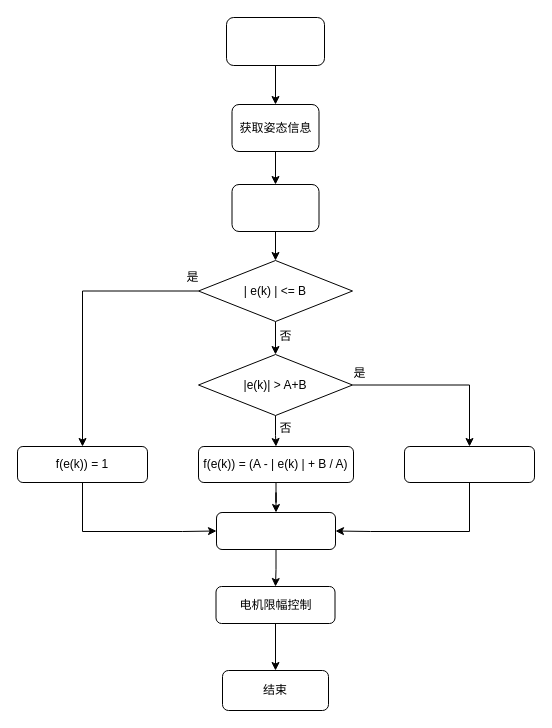
This 552x728 diagram has some shape labels left out. The centre of each missing label's shape, as x and y in pixels:
f(e(k)) = 0: (469,464)
PID 控制器: (276,531)
开始: (275,41)
计算姿态误差e(k): (275,208)
